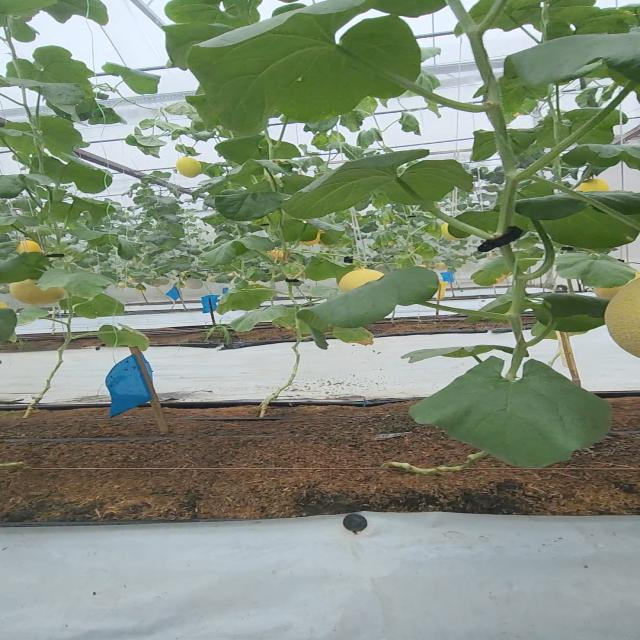Rear-melon: (12, 290, 63, 304)
